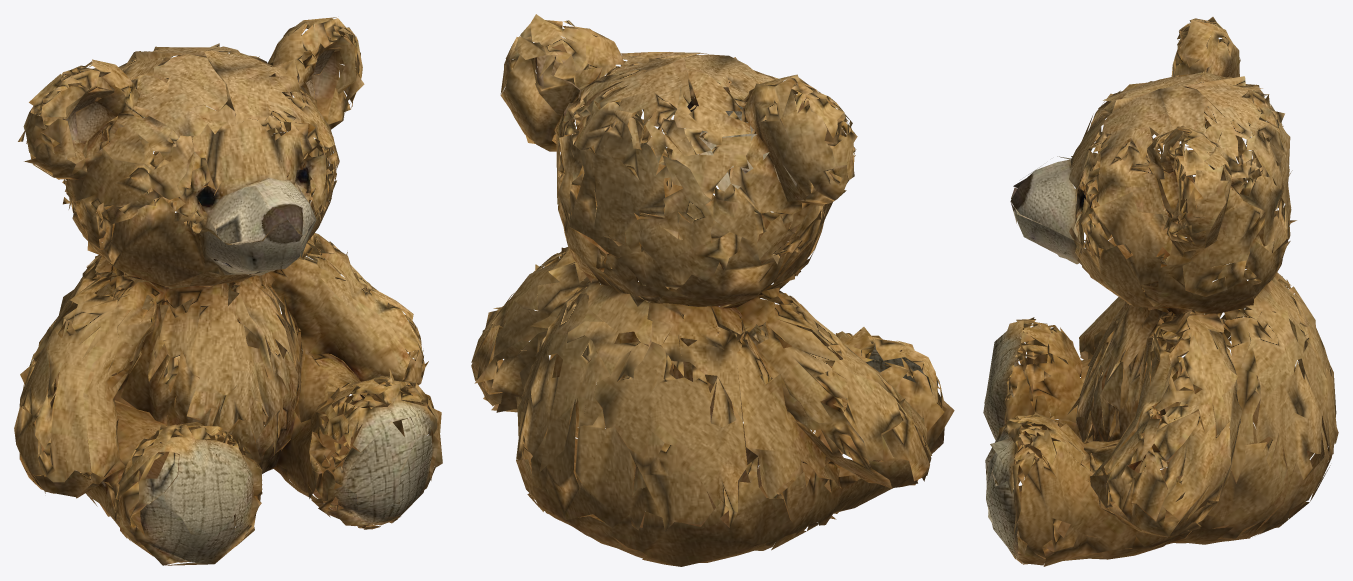
File: kinder_teddy.glb
The picture shows the model from 3 angles, left to right: view 1: azimuth 30°, elevation 25°; view 2: azimuth 150°, elevation 25°; view 3: azimuth 270°, elevation 25°; orthographic projection. The views are drawn at different scales.
Parts seen in each view (by area): view 1: Prop; view 2: Prop; view 3: Prop.
Part boxes in pixels (x1,y1,x2,y2): Prop: (14, 17, 442, 565); Prop: (471, 14, 954, 566); Prop: (983, 17, 1338, 566).
Bounding box in the file's own units: 0.9404 × 1 × 0.7291.
1 material, 1 textured.
